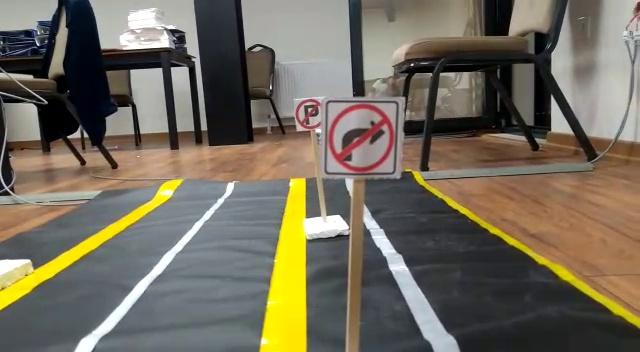park_yapilmaz: (293, 97, 324, 130)
saga_donulmez: (325, 99, 399, 179)
